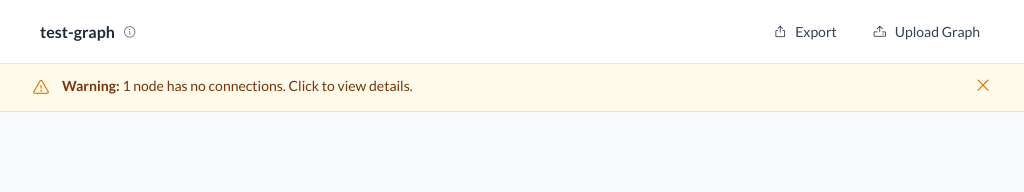
Test: Header › export dropdown › opens dropdown with PNG and SVG options on click
Click the button "Export": {"x": 805, "y": 32} [761, 16, 849, 48]
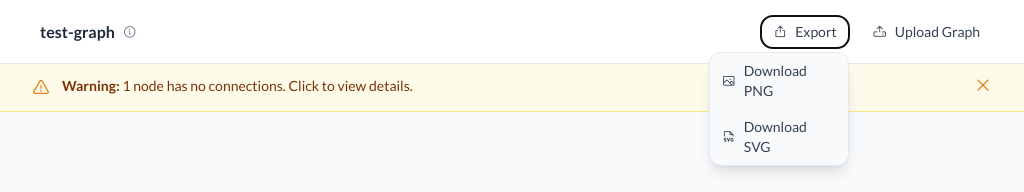
Expected: the menu item "Download PNG" is shown, [710, 52, 848, 108]
Expected: the menu item "Download SVG" is shown, [710, 108, 848, 164]
